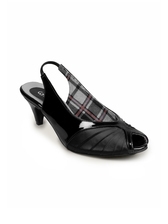shoes: (15, 58, 155, 160)
